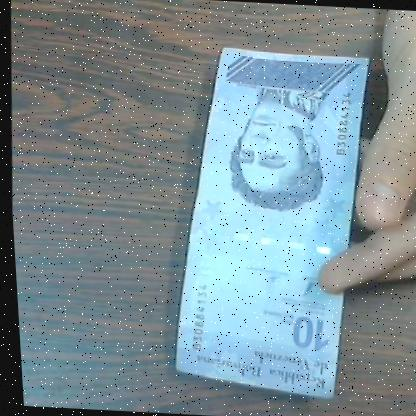ten-front-vef: (153, 45, 383, 400)
